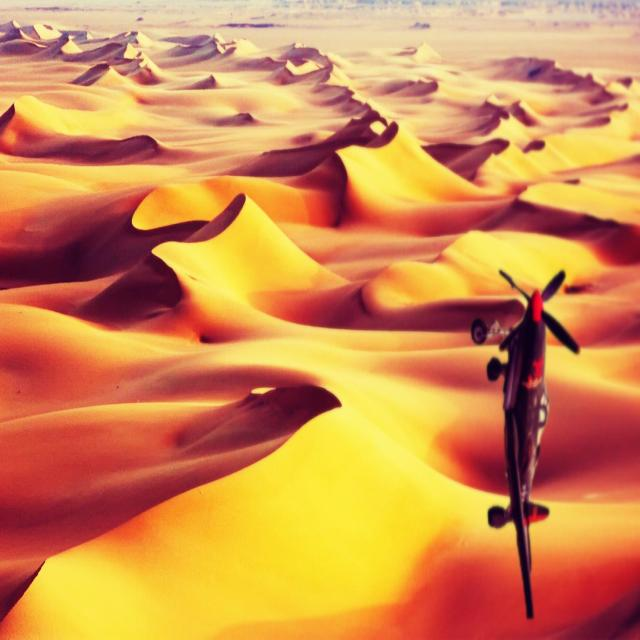airplane: (470, 266, 581, 619)
